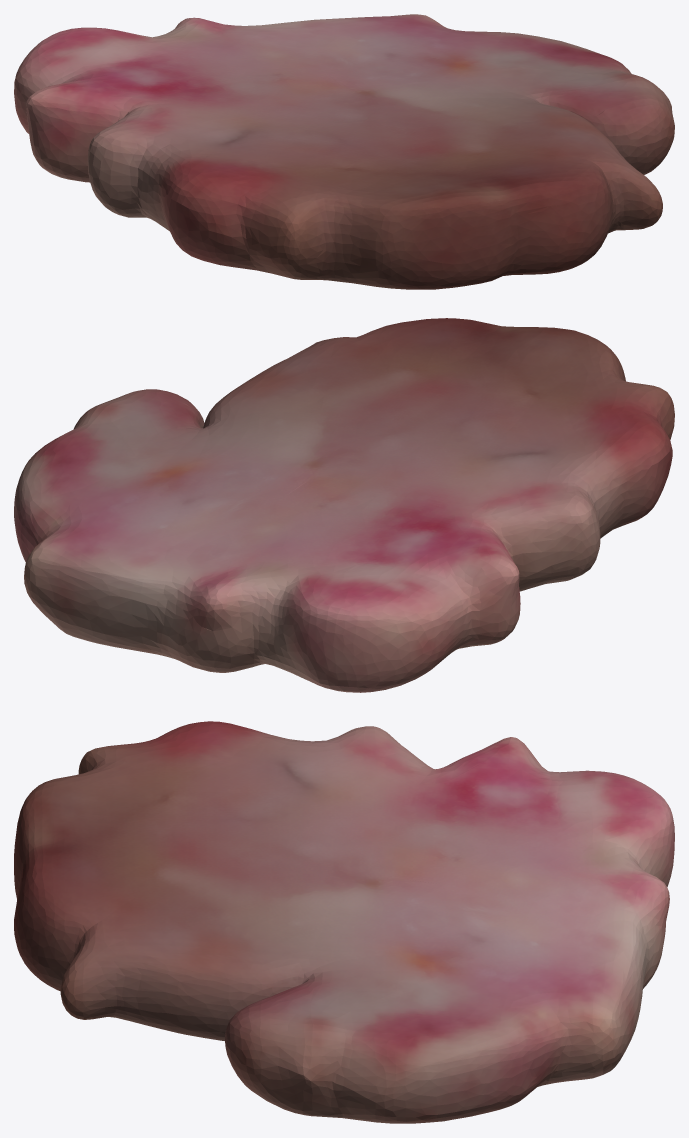
File: vascular-lesions.glb
3 views of the same model, one above another, from view 1: azimuth 30°, elevation 25°; view 2: azimuth 150°, elevation 25°; view 3: azimuth 270°, elevation 25° (orthographic). The views are drawn at different scales.
Parts seen in each view (by area): view 1: world; view 2: world; view 3: world.
Boxes of the visible parts, x1,y1,x2,y2 form: world: [14, 14, 674, 289]; world: [14, 318, 674, 692]; world: [14, 721, 674, 1123].
Size of the model in its own units: 0.9972 by 0.2701 by 0.9984.
1 material, 1 textured.
